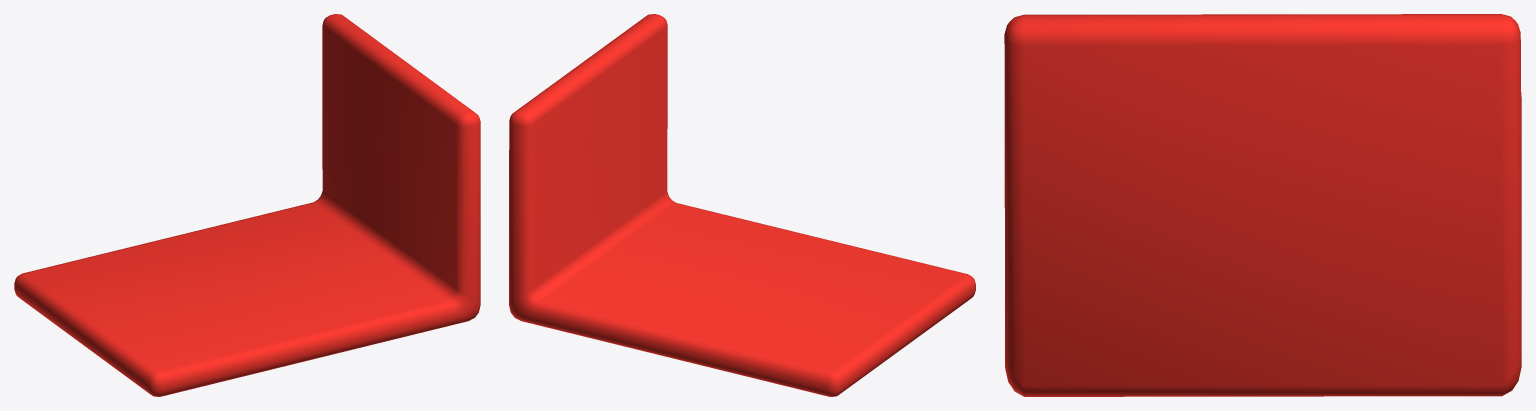
File: Banco grada.fbx
The picture shows the model from 3 angles, left to right: view 1: azimuth 30°, elevation 25°; view 2: azimuth 150°, elevation 25°; view 3: azimuth 270°, elevation 25°; orthographic projection. The views are drawn at different scales.
Visible parts, largest first — view 1: Asiento_gradas; view 2: Asiento_gradas; view 3: Asiento_gradas.
Boxes of the visible parts, x1,y1,x2,y2 form: Asiento_gradas: [14, 14, 480, 396]; Asiento_gradas: [509, 14, 975, 396]; Asiento_gradas: [1004, 14, 1521, 396].
Size of the model in its own units: 55.12 by 33.19 by 41.32.
